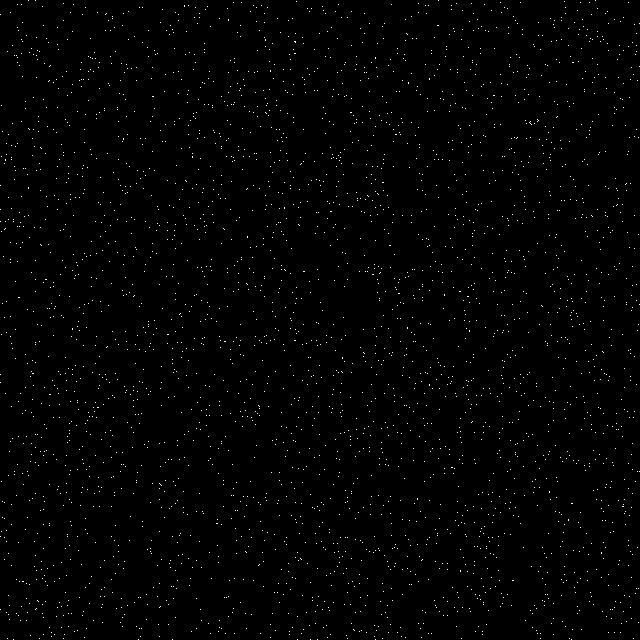Circle: (41, 39, 562, 562)
